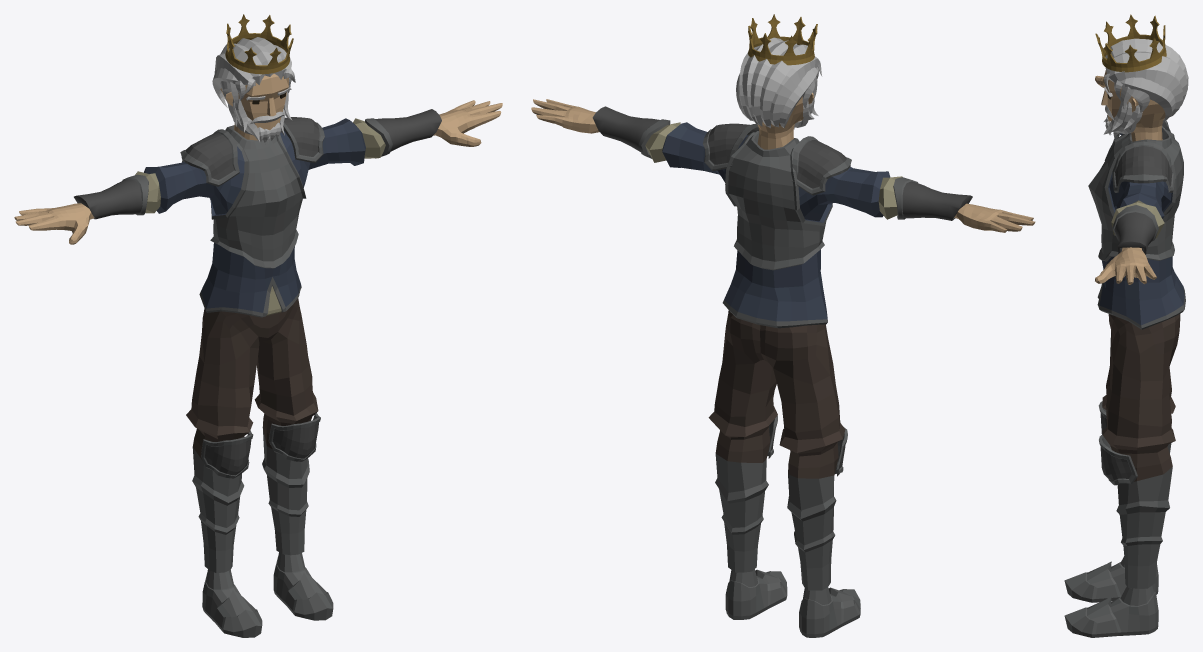
The model's file is king.glb.
3 renders of one model, left to right at view 1: azimuth 30°, elevation 25°; view 2: azimuth 150°, elevation 25°; view 3: azimuth 270°, elevation 25°, orthographic. The views are drawn at different scales.
Visible parts, largest first — view 1: King_Legs_654cc5, King_Body_ad7315, King_Body_6d3278, King_Legs_f35f64, King_Body_55e1c5, King_Feet, King_Head_502f1d, King_Body, King_Legs_63b3f9, King_Head_6006a2, King_Head, King_Body_79615c; view 2: King_Legs_654cc5, King_Body_ad7315, King_Body_6d3278, King_Legs_f35f64, King_Body_55e1c5, King_Head_502f1d, King_Feet, King_Body, King_Head_6006a2, King_Body_79615c, King_Head; view 3: King_Legs_654cc5, King_Body_ad7315, King_Feet, King_Legs_f35f64, King_Body_6d3278, King_Head_502f1d, King_Body_55e1c5, King_Head_6006a2, King_Head, King_Body, King_Legs_63b3f9, King_Body_79615c.
Part boxes in pixels (left/top/right/bottom): King_Legs_654cc5: left=186, top=298, right=318, bottom=460; King_Body_ad7315: left=122, top=118, right=392, bottom=317; King_Body_6d3278: left=144, top=118, right=365, bottom=312; King_Legs_f35f64: left=192, top=413, right=320, bottom=573; King_Body_55e1c5: left=74, top=109, right=441, bottom=219; King_Feet: left=202, top=552, right=333, bottom=637; King_Head_502f1d: left=212, top=37, right=295, bottom=143; King_Body: left=14, top=100, right=502, bottom=244; King_Legs_63b3f9: left=205, top=423, right=318, bottom=475; King_Head_6006a2: left=225, top=14, right=293, bottom=74; King_Head: left=220, top=73, right=288, bottom=140; King_Body_79615c: left=135, top=118, right=385, bottom=315; King_Legs_654cc5: left=708, top=310, right=845, bottom=478; King_Body_ad7315: left=638, top=119, right=917, bottom=328; King_Body_6d3278: left=662, top=122, right=890, bottom=321; King_Legs_f35f64: left=715, top=416, right=847, bottom=590; King_Body_55e1c5: left=592, top=106, right=972, bottom=220; King_Head_502f1d: left=736, top=37, right=822, bottom=129; King_Feet: left=725, top=569, right=860, bottom=637; King_Body: left=531, top=99, right=1035, bottom=232; King_Head_6006a2: left=748, top=14, right=817, bottom=65; King_Body_79615c: left=645, top=122, right=902, bottom=219; King_Head: left=757, top=92, right=813, bottom=149; King_Legs_654cc5: left=1102, top=314, right=1180, bottom=481; King_Body_ad7315: left=1088, top=120, right=1185, bottom=329; King_Feet: left=1064, top=556, right=1158, bottom=637; King_Legs_f35f64: left=1098, top=401, right=1172, bottom=588; King_Body_6d3278: left=1099, top=133, right=1184, bottom=325; King_Head_502f1d: left=1103, top=38, right=1188, bottom=137; King_Body_55e1c5: left=1114, top=121, right=1172, bottom=254; King_Head_6006a2: left=1095, top=14, right=1166, bottom=72; King_Head: left=1101, top=70, right=1165, bottom=141; King_Body: left=1095, top=75, right=1156, bottom=284; King_Legs_63b3f9: left=1100, top=413, right=1131, bottom=480; King_Body_79615c: left=1111, top=200, right=1164, bottom=238.
Bounding box in the file's own units: 1.58 × 1.8 × 0.3451.
